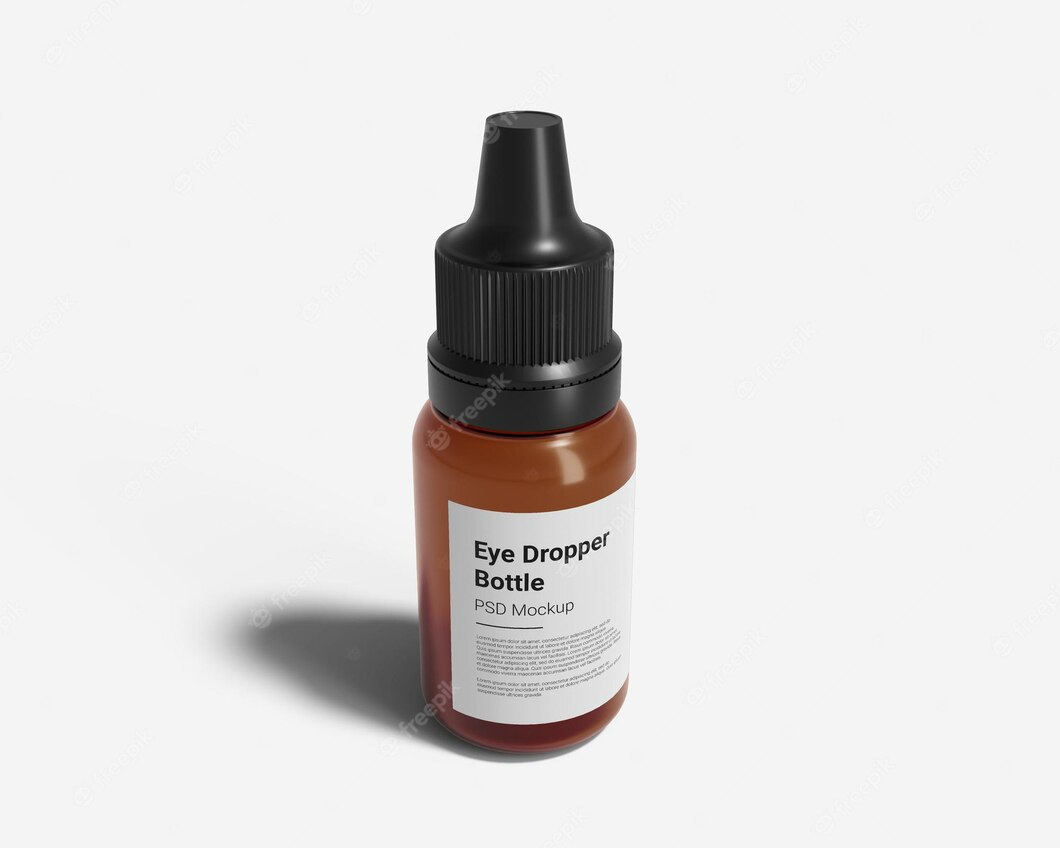Medicine: (372, 85, 695, 765)
